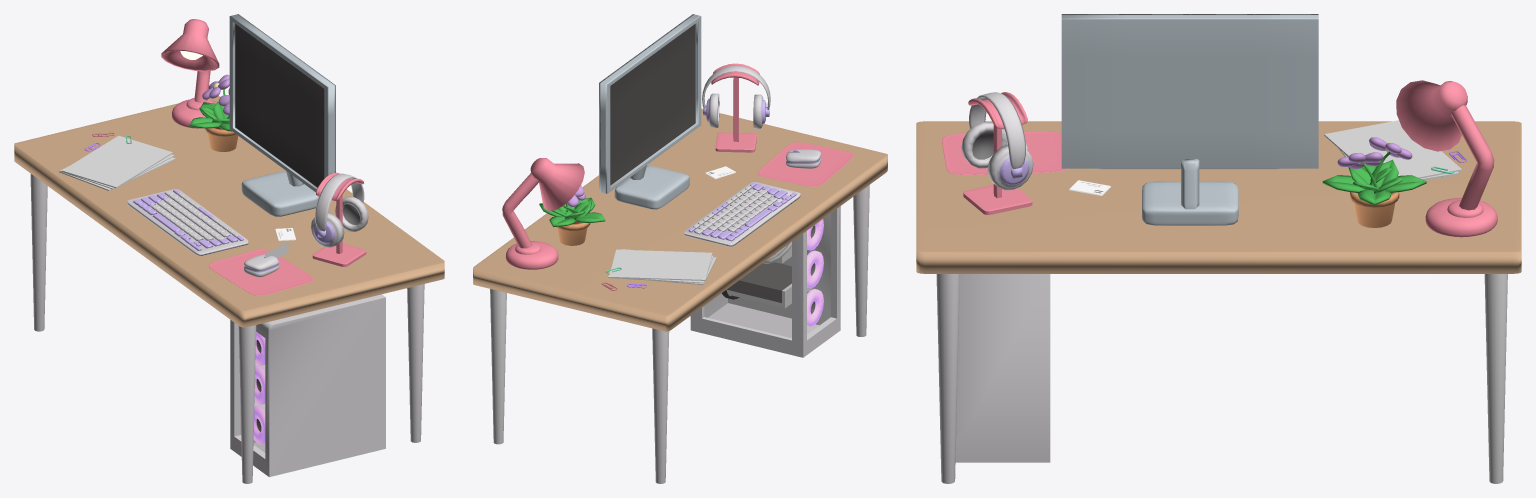
Rendered from komp.glb.
3 views of the same model, side by side, from view 1: azimuth 30°, elevation 25°; view 2: azimuth 150°, elevation 25°; view 3: azimuth 270°, elevation 25° (orthographic). The views are drawn at different scales.
Visible parts, largest first — view 1: Cube, Cube.001, Cube.006, Cube.063, Plane.003, Cylinder.001, Cylinder.009, podkladka, Cylinder, Cylinder.004, Cylinder.003, Cylinder.011 (+2 smaller); view 2: Cube, Cube.006, Cube.001, Cylinder.001, Cube.063, Plane.003, podkladka, Cylinder.003, Cylinder.005, Cube.003, Cylinder, Cylinder.008 (+5 smaller); view 3: Cube, Cube.006, Cube.001, Cylinder.001, Cylinder.009, Cylinder.005, Cylinder.004, Plane.003, Cylinder.008, podkladka, Cylinder.011.
Boxes of the visible parts, <box> form: Cube: <box>14,95,444,327</box>; Cube.001: <box>230,294,385,477</box>; Cube.006: <box>229,14,335,216</box>; Cube.063: <box>127,189,248,256</box>; Plane.003: <box>59,135,175,190</box>; Cylinder.001: <box>161,19,219,128</box>; Cylinder.009: <box>310,173,368,247</box>; podkladka: <box>208,249,313,295</box>; Cylinder: <box>238,325,256,483</box>; Cylinder.004: <box>407,284,424,442</box>; Cylinder.003: <box>30,174,47,331</box>; Cylinder.011: <box>312,172,366,266</box>; Cube: <box>473,108,887,331</box>; Cube.006: <box>599,14,701,209</box>; Cube.001: <box>690,206,840,357</box>; Cylinder.001: <box>502,158,584,269</box>; Cube.063: <box>684,182,800,246</box>; Plane.003: <box>608,249,716,285</box>; podkladka: <box>758,142,853,186</box>; Cylinder.003: <box>652,328,669,483</box>; Cylinder.005: <box>490,289,506,444</box>; Cube.003: <box>726,262,812,308</box>; Cylinder: <box>853,185,869,336</box>; Cylinder.008: <box>539,197,605,245</box>; Cube: <box>916,121,1521,273</box>; Cube.006: <box>1061,14,1318,225</box>; Cube.001: <box>955,274,1050,462</box>; Cylinder.001: <box>1396,80,1497,237</box>; Cylinder.009: <box>961,92,1033,190</box>; Cylinder.005: <box>1484,274,1507,483</box>; Cylinder.004: <box>936,274,959,483</box>; Plane.003: <box>1324,120,1461,180</box>; Cylinder.008: <box>1322,159,1426,227</box>; podkladka: <box>942,131,1068,174</box>; Cylinder.011: <box>963,92,1032,214</box>.
Bounding box in the file's own units: 0.0684 × 0.1067 × 0.1334.
Materials: 41 (1 with a texture image).
